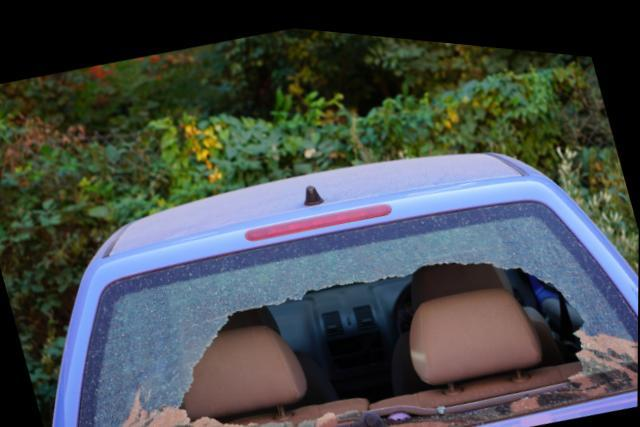glass shatter: (78, 190, 639, 427)
